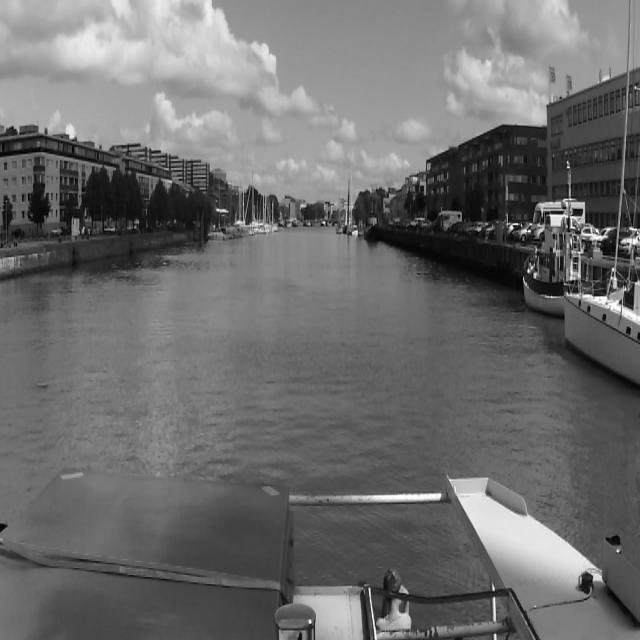ship: (574, 0, 640, 390), (516, 210, 606, 314), (363, 209, 381, 243), (207, 227, 227, 241)
